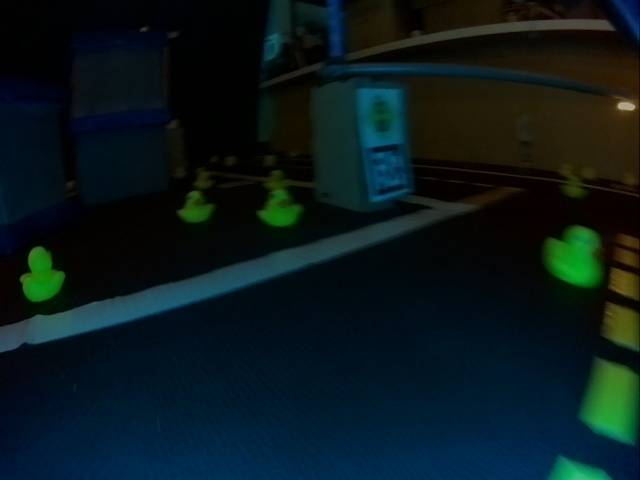Duckie: (546, 226, 599, 286), (20, 247, 63, 302), (258, 189, 299, 226), (178, 191, 214, 223), (565, 175, 587, 197)
QR code: (369, 143, 407, 195)
Signal sign: (365, 95, 400, 139)
